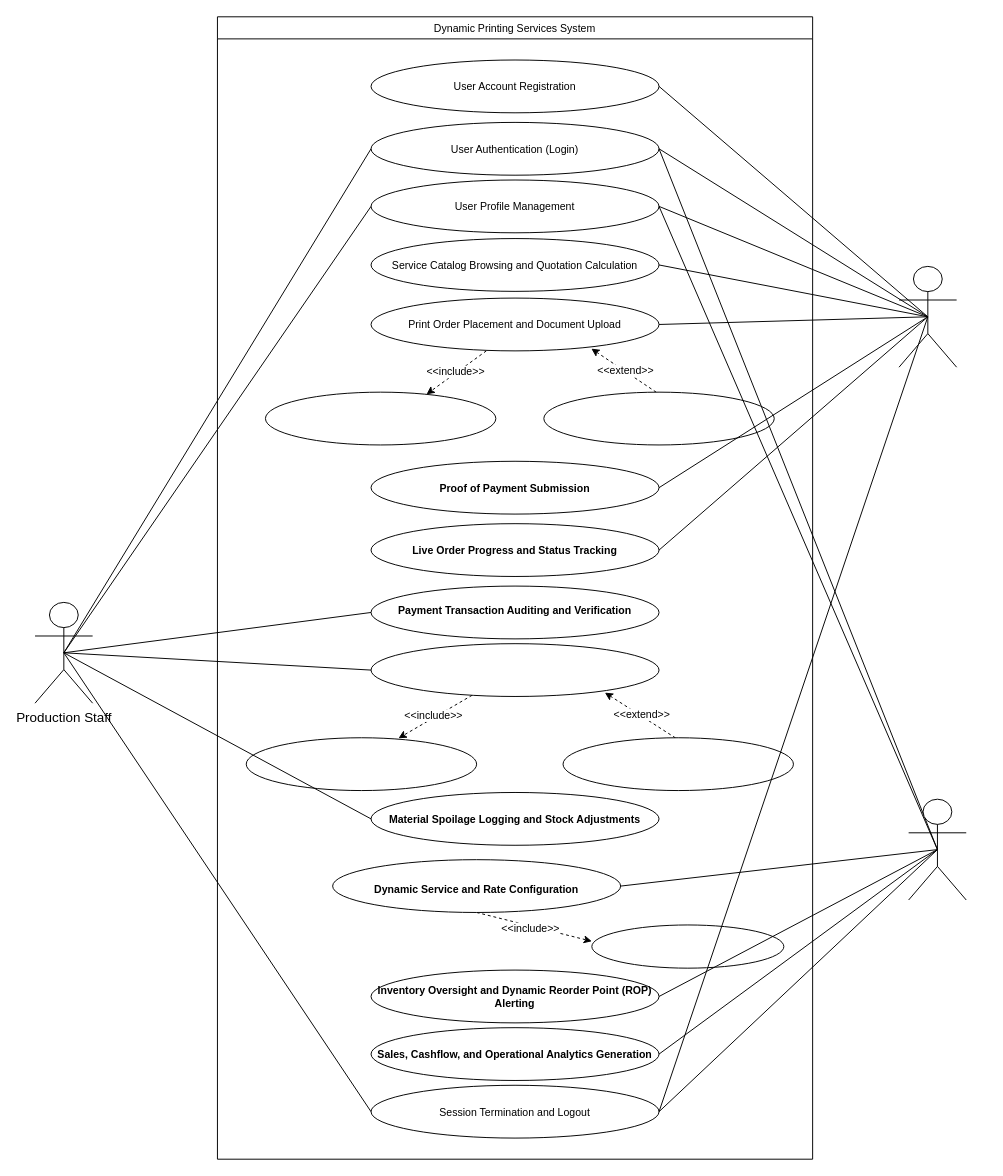
This 1003x1176 diagram has some shape labels left out. The shapes that lost their labels are listed below. From the top down, each one's centre as x and y in pixels, then its label:
At (927,316): "Customer".
At (380,418): "Print Attribute and Finishing Specification".
At (658,418): "Customer-Supplied Substrate Declaration".
At (514,669): "Production Floor 5-Stage Kanban Queue Management".
At (361,764): "Automated Bill of Materials (BOM) Inventory Deduction".
At (677,764): "Customer-Supplied Substrate Counter Inspection".
At (937,849): "Business Owner".
At (687,946): "Bill of Materials (BOM) Recipe Definition".
